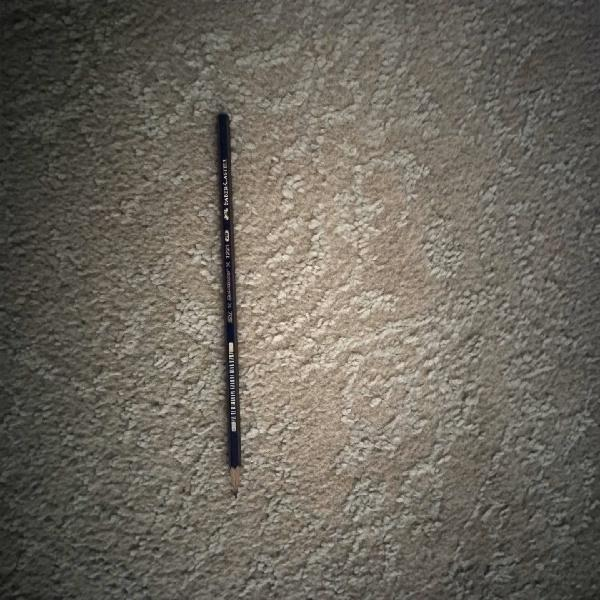pencil: (218, 115, 241, 495)
